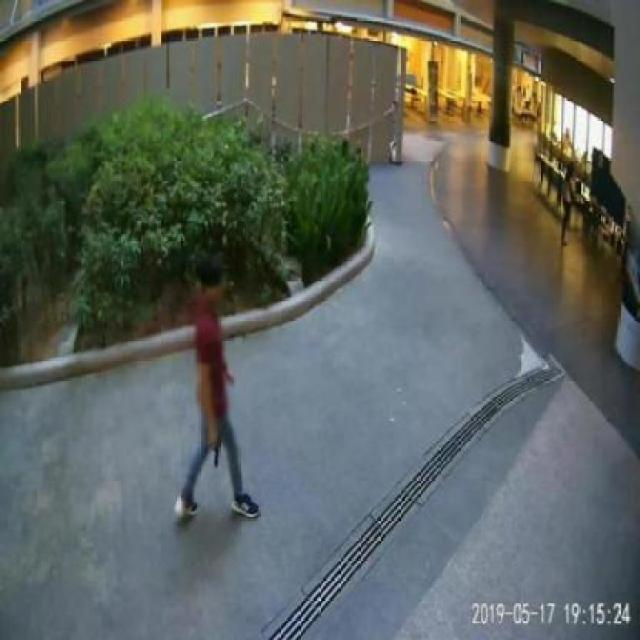gun: (206, 426, 220, 466)
